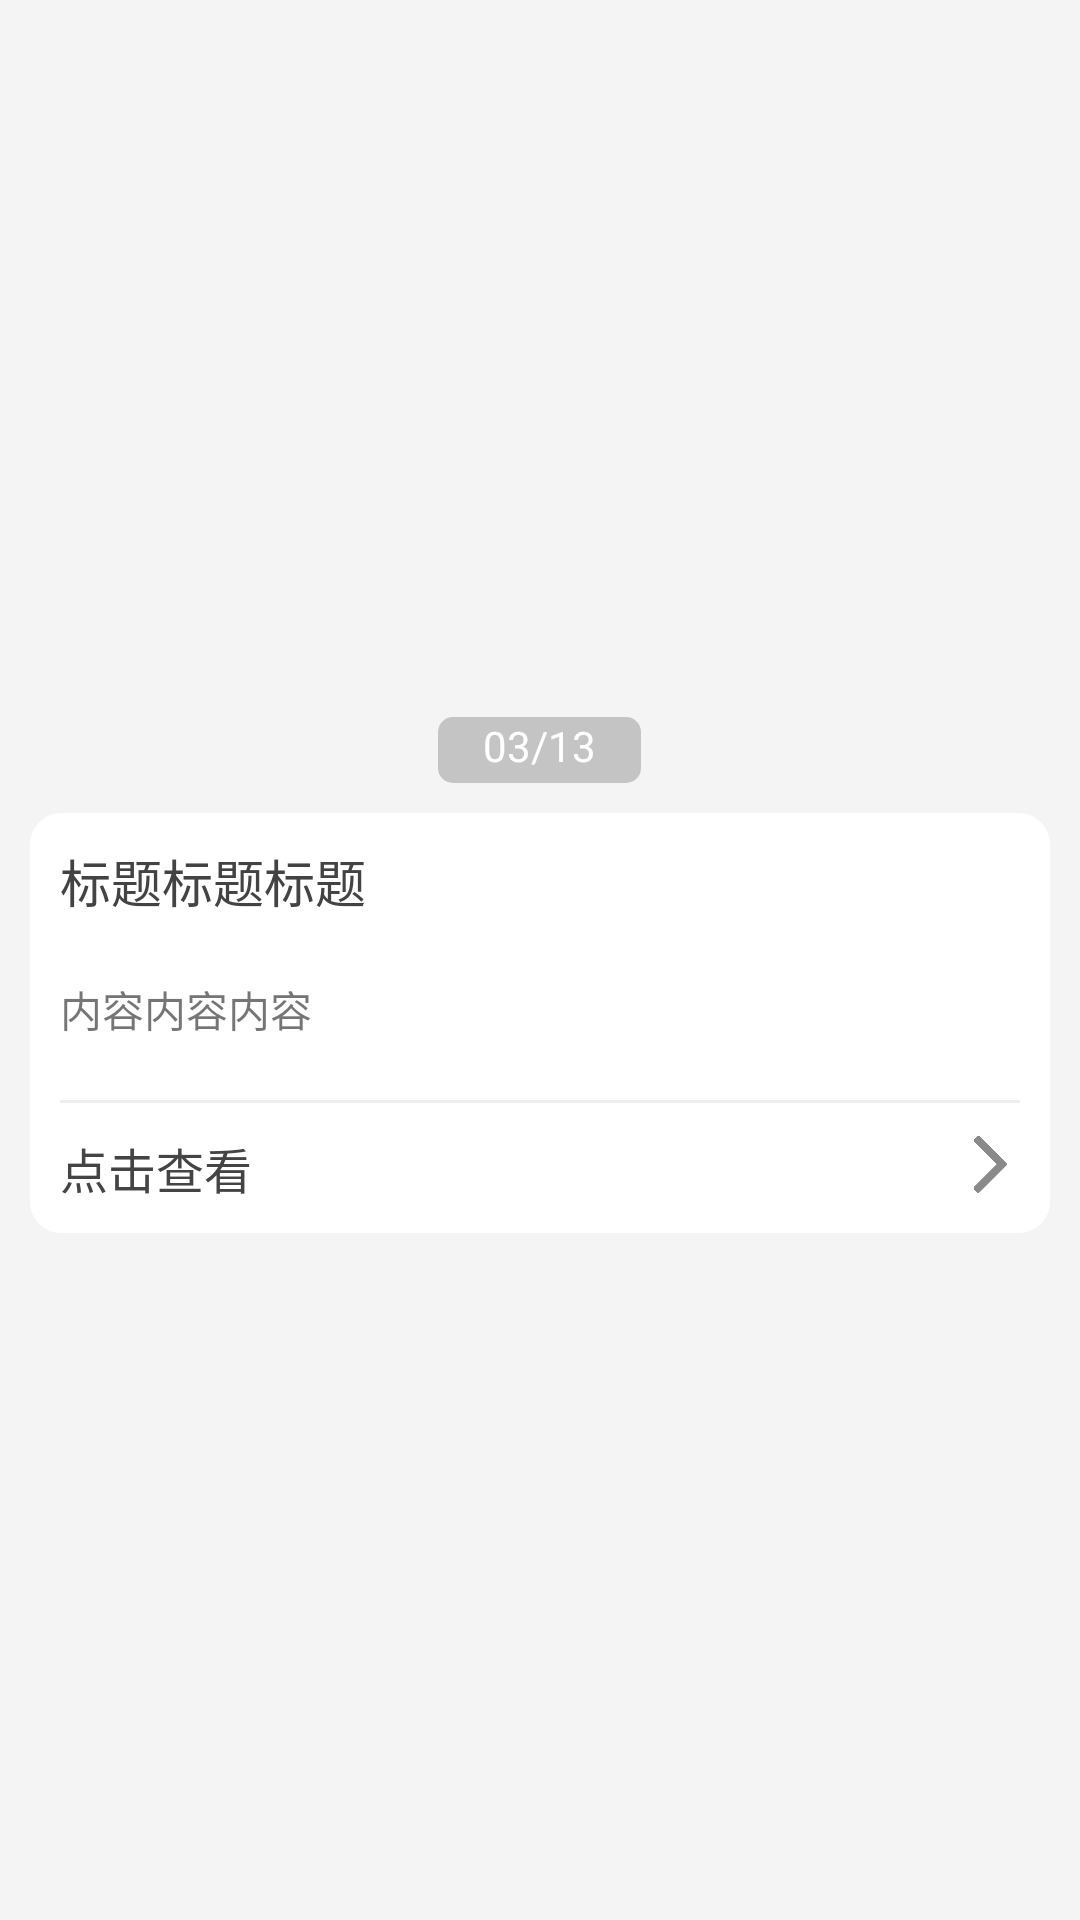

Where icons sit on this 1080 × 1920 app screen, as (x1, y1, x2, y2):
arrow right: (974, 1136, 1007, 1193)
